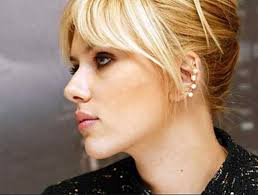n.sharp: (65, 67, 92, 103)
